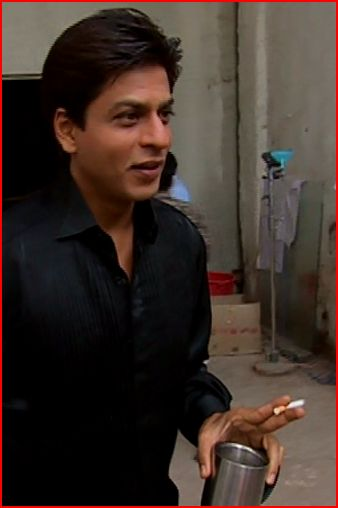cigarette: (274, 400, 315, 413)
